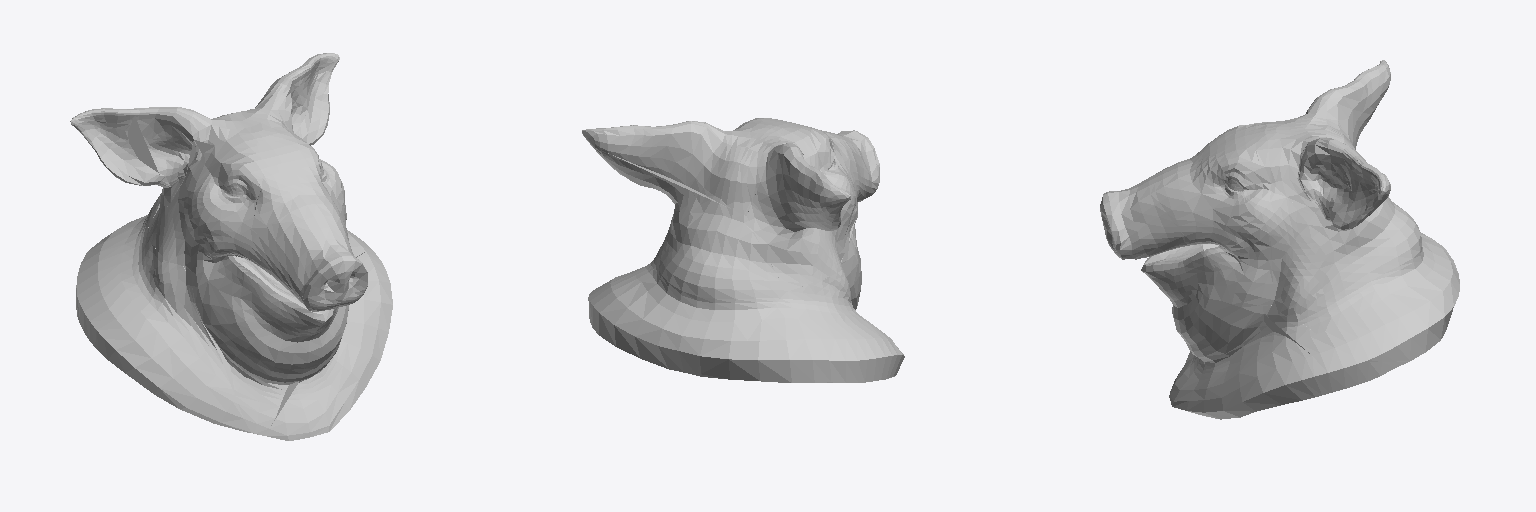
Rendered from ShatteredPig_all_002.obj.
The picture shows the model from 3 angles: view 1: azimuth 30°, elevation 25°; view 2: azimuth 150°, elevation 25°; view 3: azimuth 270°, elevation 25°; orthographic projection.
Parts seen in each view (by area): view 1: ShatteredPig_all:polySurface1 polySurface2 polySurface4 polySurf, polySurface1 ShatteredPig_all:polySurface1, ShatteredPig_all:polySurface1 polySurface3 polySurface2; view 2: ShatteredPig_all:polySurface1 polySurface2 polySurface4 polySurf, polySurface1 ShatteredPig_all:polySurface1; view 3: ShatteredPig_all:polySurface1 polySurface2 polySurface4 polySurf, ShatteredPig_all:polySurface1 polySurface3 polySurface2, polySurface1 ShatteredPig_all:polySurface1, ShatteredPig_all:polySurface1 polySurface2 polySurface5 polySurf.
Part boxes in pixels (x1,y1,x2,y2): ShatteredPig_all:polySurface1 polySurface2 polySurface4 polySurf: (70,53,352,432); polySurface1 ShatteredPig_all:polySurface1: (183,221,367,435); ShatteredPig_all:polySurface1 polySurface3 polySurface2: (264,252,392,440); ShatteredPig_all:polySurface1 polySurface2 polySurface4 polySurf: (582,118,904,382); polySurface1 ShatteredPig_all:polySurface1: (833,130,879,309); ShatteredPig_all:polySurface1 polySurface2 polySurface4 polySurf: (1155,60,1459,361); ShatteredPig_all:polySurface1 polySurface3 polySurface2: (1169,302,1329,419); polySurface1 ShatteredPig_all:polySurface1: (1100,167,1241,363); ShatteredPig_all:polySurface1 polySurface2 polySurface5 polySurf: (1263,305,1411,392).
Bounding box in the file's own units: 114 × 109 × 126.